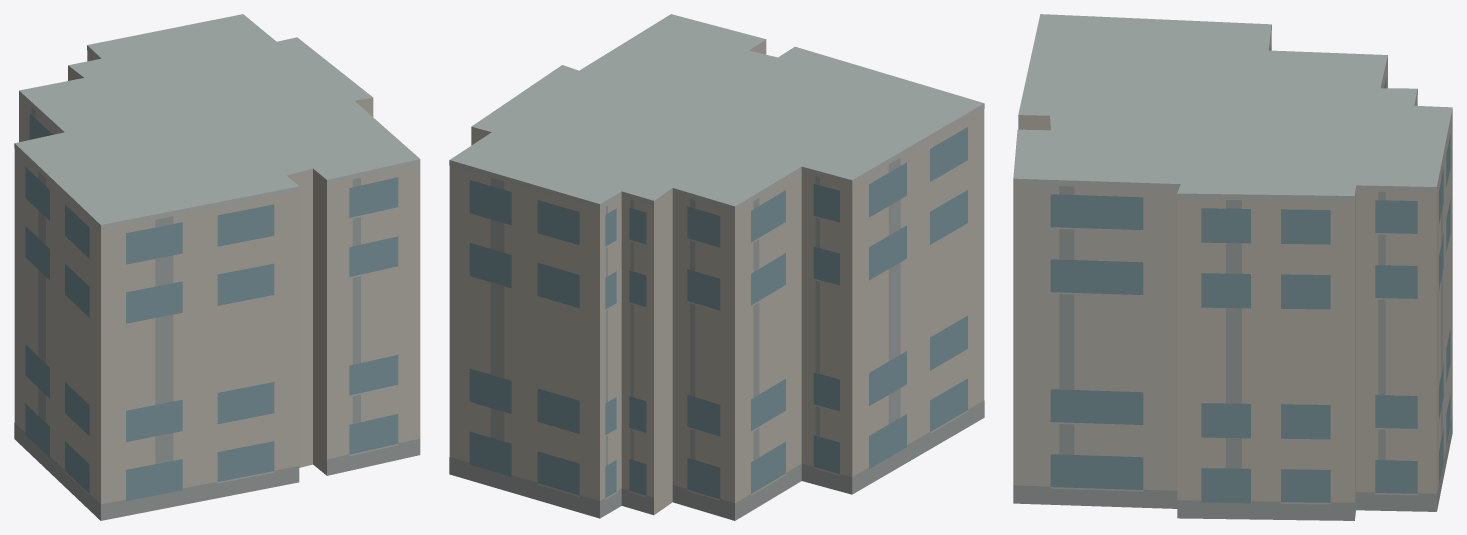
Rendered from survey-upis-32831298.glb.
The picture shows the model from 3 angles, left to right: view 1: azimuth 30°, elevation 25°; view 2: azimuth 150°, elevation 25°; view 3: azimuth 270°, elevation 25°; orthographic projection. The views are drawn at different scales.
Parts seen in each view (by area): view 1: survey-upis-32831298.tmp; view 2: survey-upis-32831298.tmp; view 3: survey-upis-32831298.tmp.
Part boxes in pixels (bbox=[...]): survey-upis-32831298.tmp: bbox=[14, 14, 420, 520]; survey-upis-32831298.tmp: bbox=[449, 14, 984, 520]; survey-upis-32831298.tmp: bbox=[1013, 14, 1452, 520].
Size of the model in its own units: 16.53 by 13.75 by 16.86.
